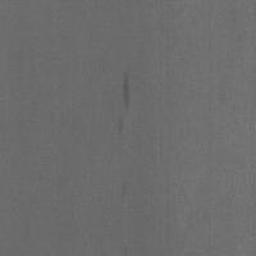Inclusion: (118, 72, 129, 141)
